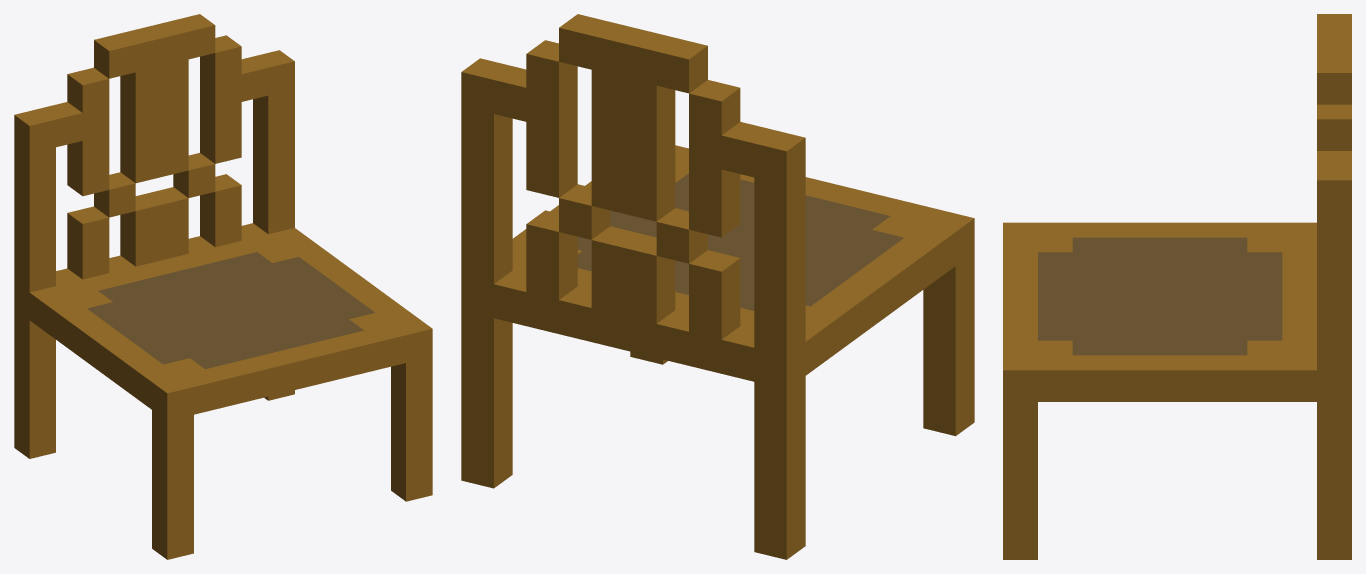
Rendered from obj_chair_antique.obj.
3 renders of one model, left to right at view 1: azimuth 30°, elevation 25°; view 2: azimuth 150°, elevation 25°; view 3: azimuth 270°, elevation 25°, orthographic. The views are drawn at different scales.
Visible parts, largest first — view 1: obj_chair_antique; view 2: obj_chair_antique; view 3: obj_chair_antique.
Boxes of the visible parts, left/top/right/bottom form: obj_chair_antique: left=14, top=14, right=432, bottom=559; obj_chair_antique: left=461, top=14, right=974, bottom=559; obj_chair_antique: left=1003, top=14, right=1351, bottom=559.
Bounding box in the file's own units: 10 × 14 × 10.
Materials: 1 (1 with a texture image).
